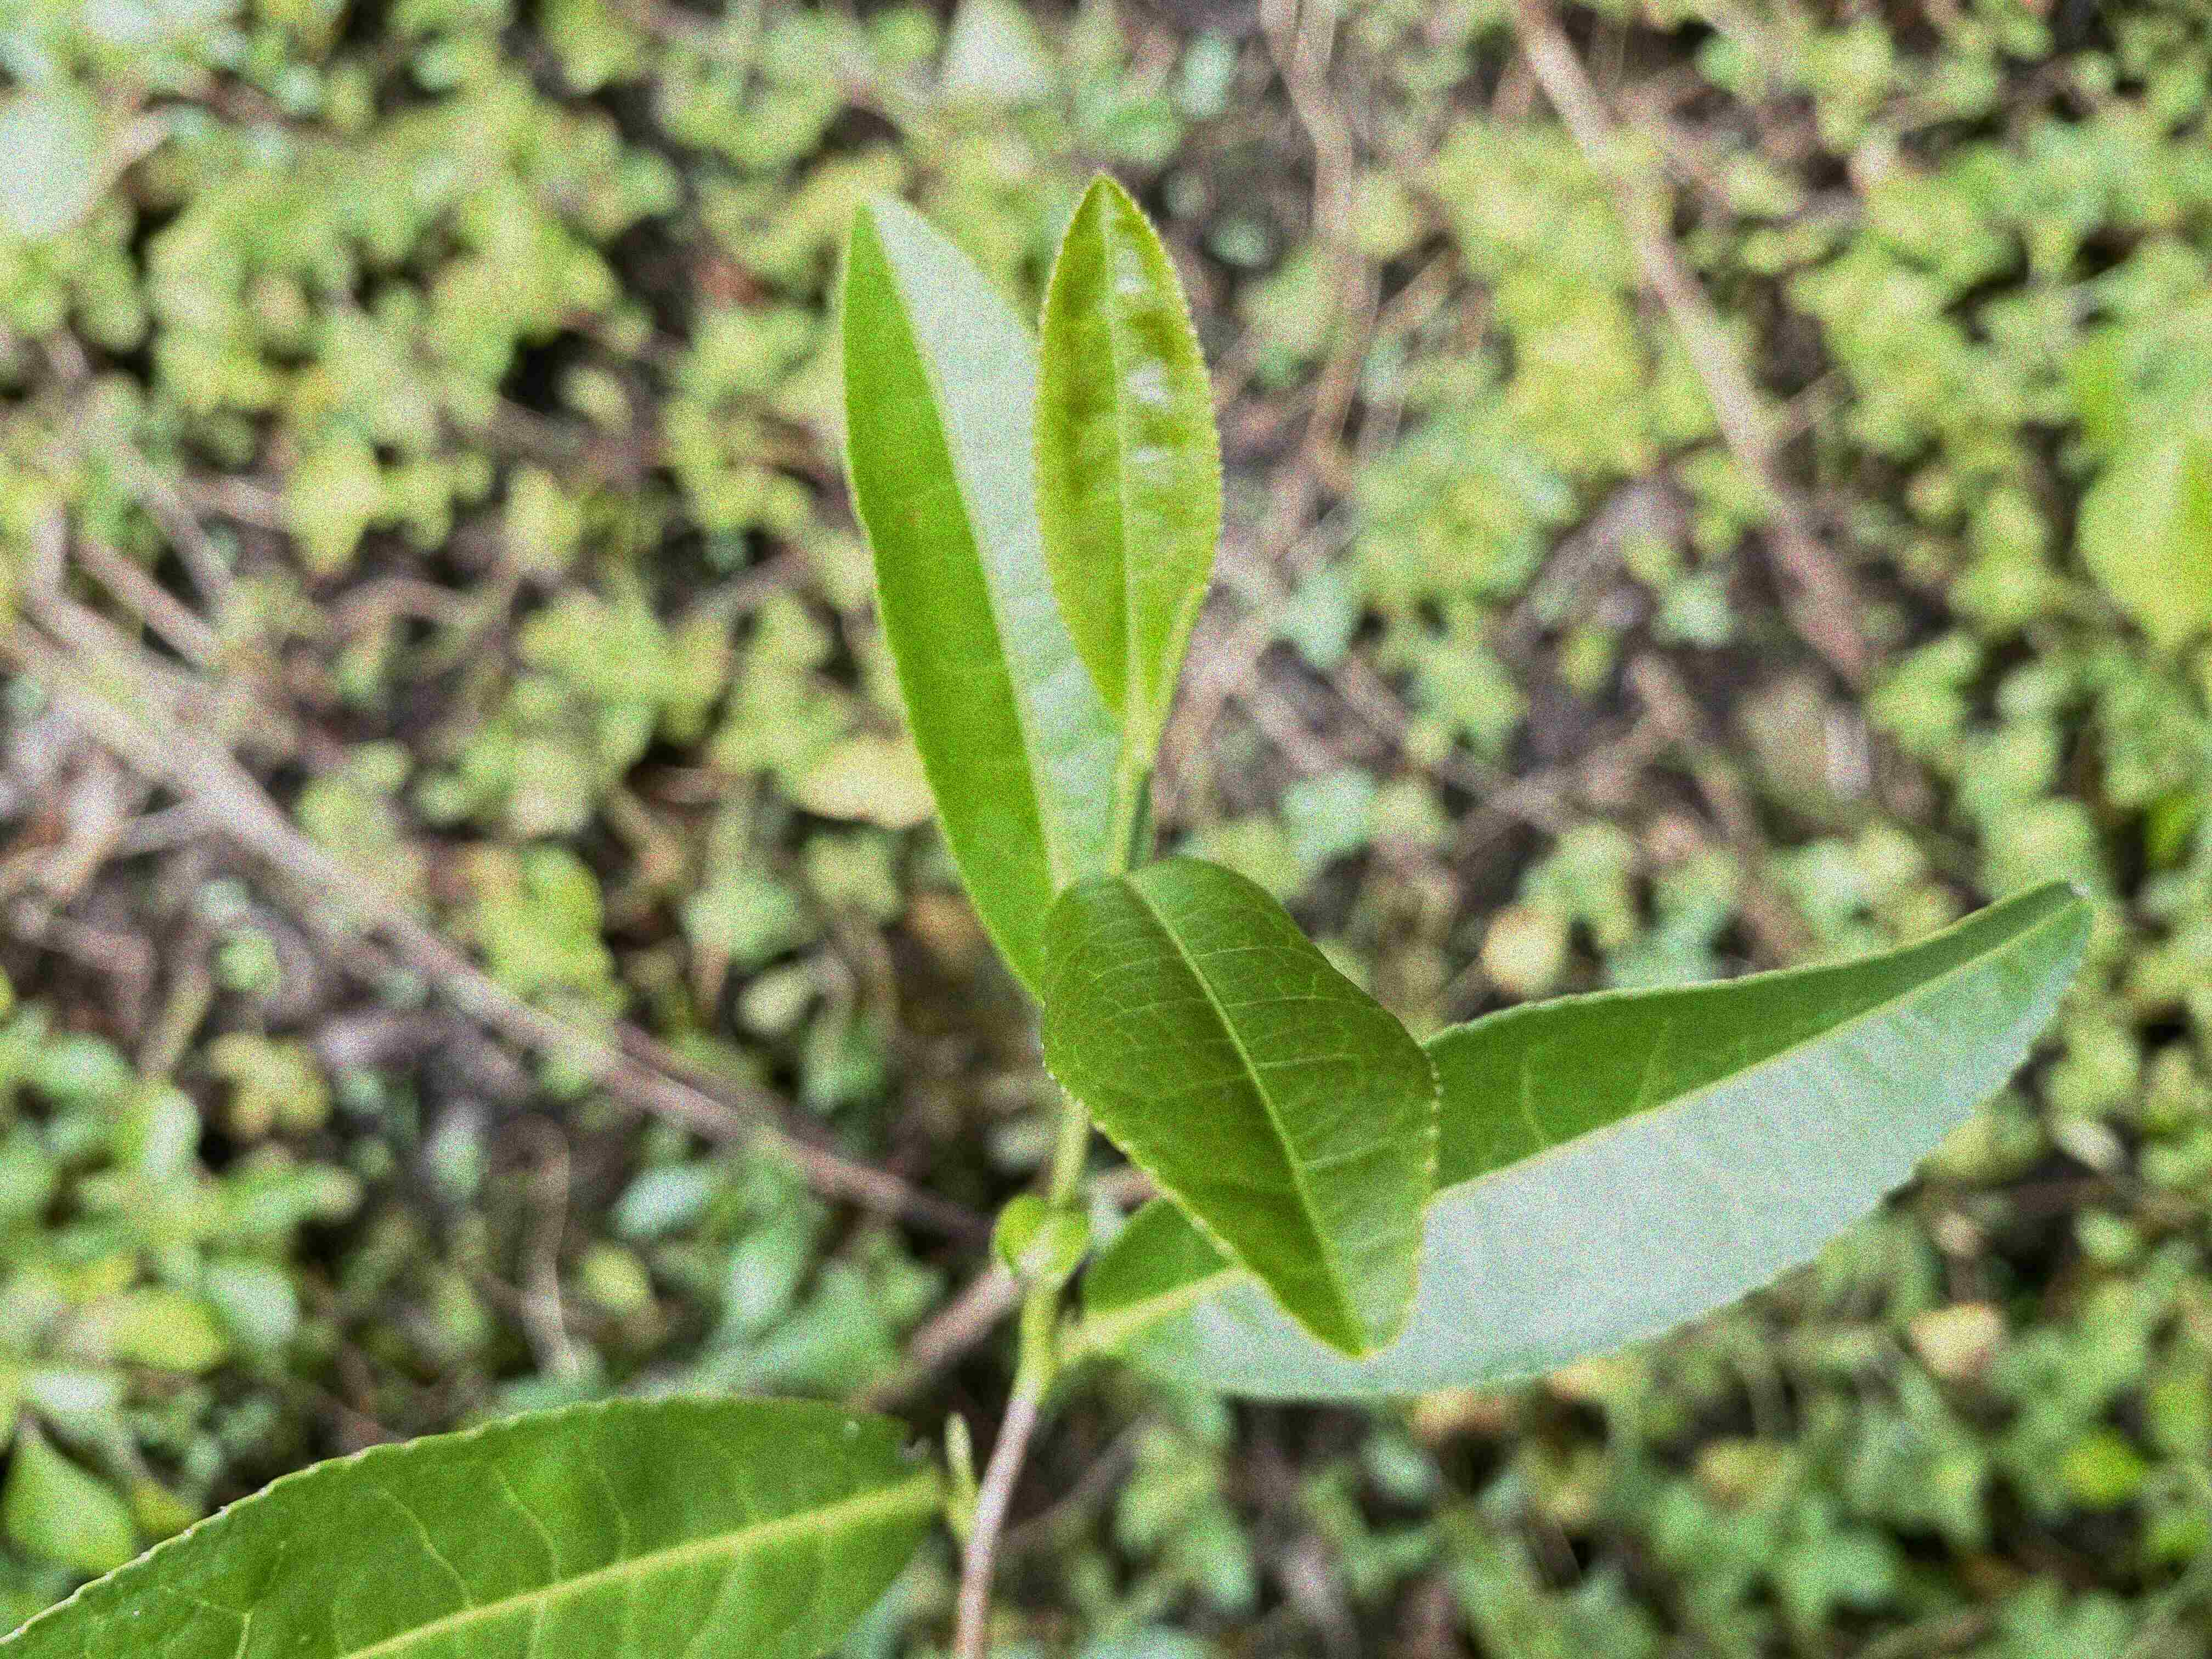healthy: (1083, 873, 2094, 1399), (838, 193, 1144, 1012), (1033, 854, 1444, 1359), (1028, 176, 1226, 730)
